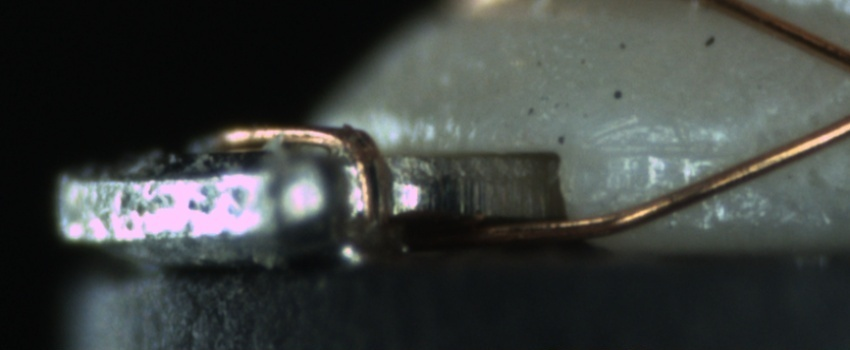DL: (601, 118, 734, 179)
TE: (207, 121, 391, 231)
